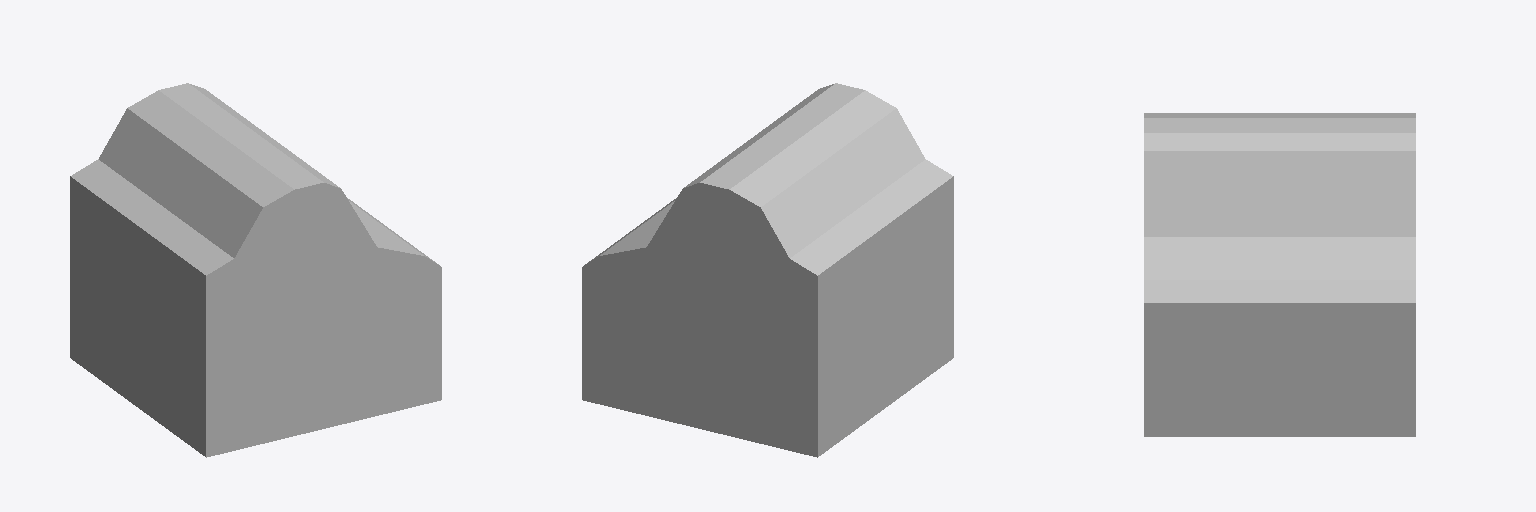
Rendered from car.obj.
3 views of the same model, side by side, from view 1: azimuth 30°, elevation 25°; view 2: azimuth 150°, elevation 25°; view 3: azimuth 270°, elevation 25° (orthographic).
Parts seen in each view (by area): view 1: Car_Plane; view 2: Car_Plane; view 3: Car_Plane.
Boxes of the visible parts, x1=… form: Car_Plane: x1=70, y1=83, x2=441, y2=457; Car_Plane: x1=582, y1=83, x2=953, y2=457; Car_Plane: x1=1144, y1=113, x2=1415, y2=436.
Bounding box in the file's own units: 1 × 1 × 1.